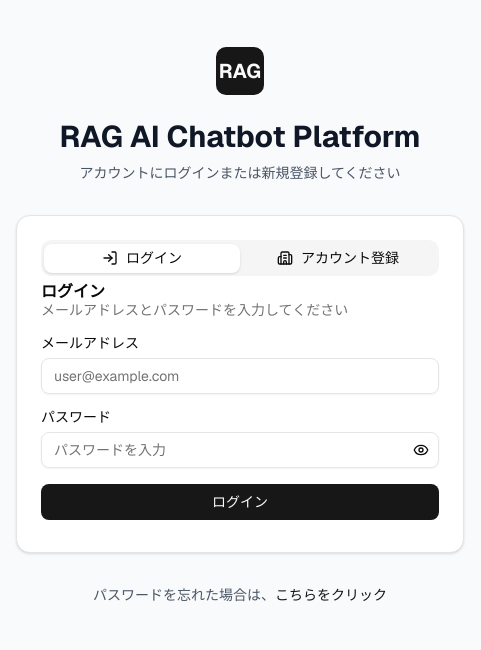
Test: LoginForm › ログイン失敗時のエラー表示
The width and height of the screenshot is (481, 650).
Note:  フォームに入力
Step 1. Type "test@example.com" into the field labelled "メールアドレス" → (240, 376), box [41, 358, 439, 394]
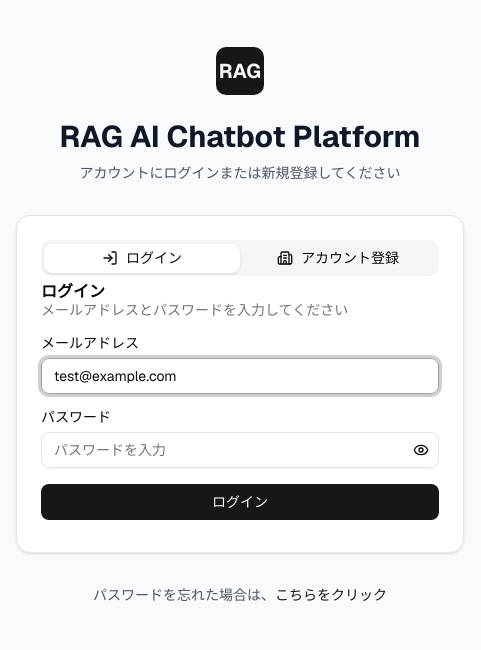
Step 2. Type "WrongPassword" into the password field labelled "パスワード" → (240, 450), box [41, 432, 439, 468]
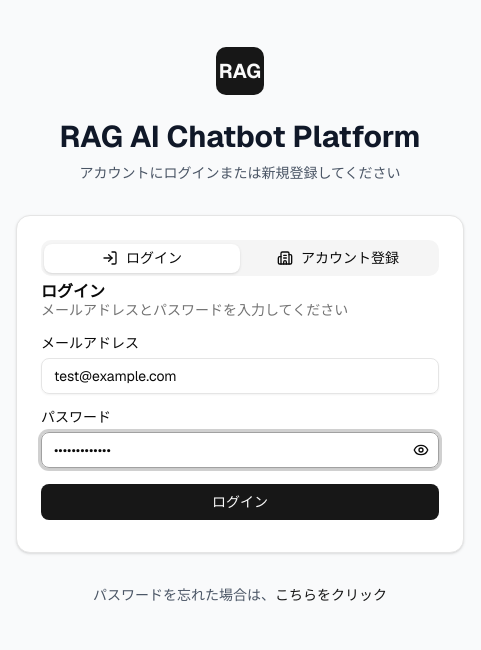
Note: ログインボタンをクリック
Step 3. Click the button "ログイン" → (240, 502), box [41, 484, 439, 520]
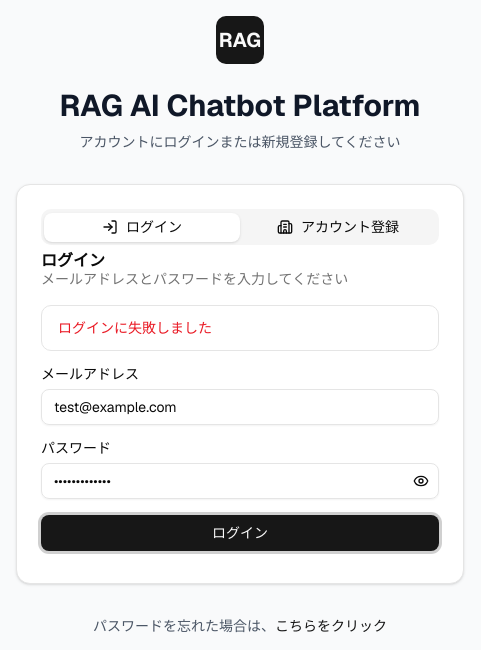
Expected: the text "ログインに失敗しました" is shown, [58, 319, 212, 337]
